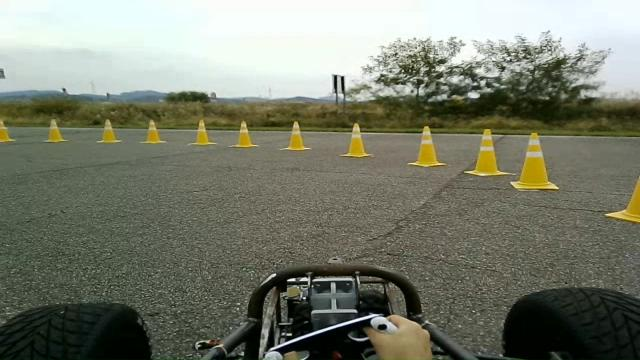yellow cone: (509, 132, 559, 190), (463, 128, 515, 176), (407, 125, 447, 167), (604, 176, 639, 223), (339, 122, 373, 158), (279, 120, 312, 151), (229, 120, 259, 148), (187, 118, 217, 145), (95, 118, 122, 144), (140, 118, 167, 144), (42, 118, 68, 142), (0, 120, 15, 142)
